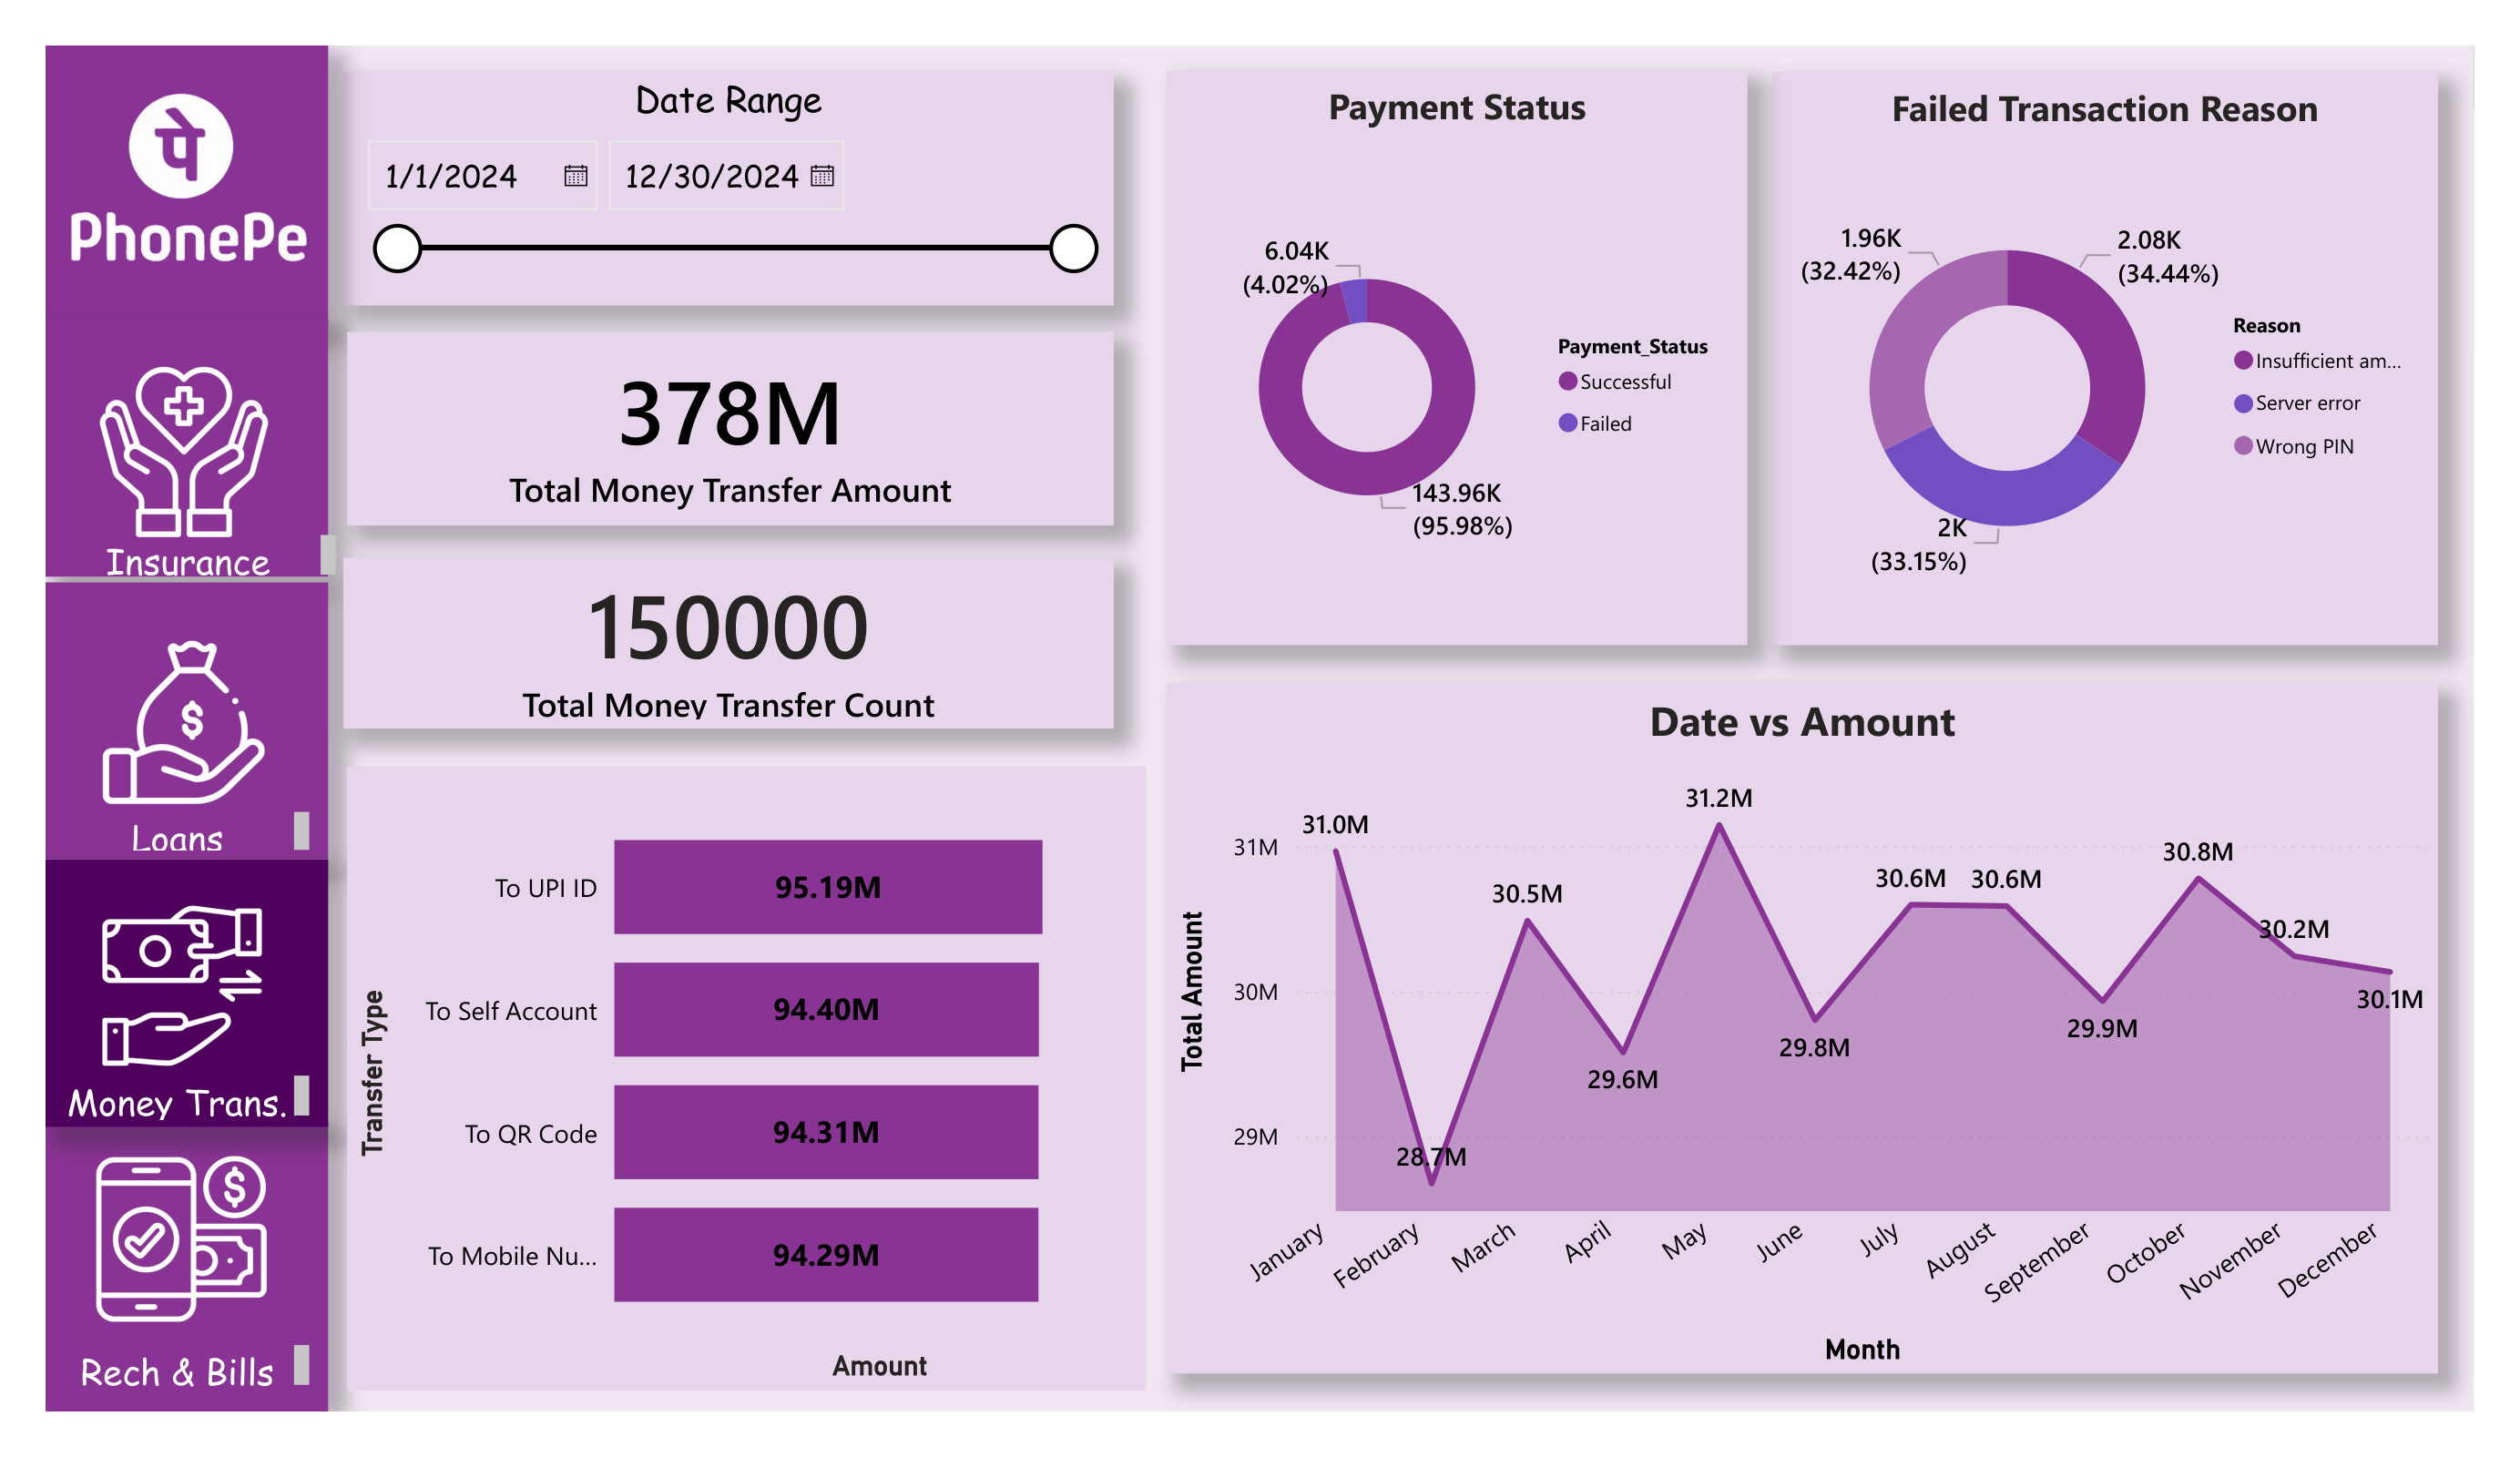

This screenshot's page, from the dashboard's own definition file:
{"tool":"powerbi","page":{"name":"Money Transfers","canvas":[1280,720],"ordinal":3},"visuals":[{"type":"shape","box":[-0.3,0.5,148.6,147.1],"z":0,"group":"g1"},{"type":"slicer","title":"Date Range","fields":{"Values":["Money_Transfer.Date"]},"box":[157.1,14.3,405.7,122.9],"z":0},{"type":"donutChart","title":"Failed Transaction Reason","fields":{"Category":["Money_Transfer.Reason"],"Y":["CountNonNull(Money_Transfer.Reason)"]},"box":[910,14.3,351.4,301.4],"z":1000},{"type":"shape","box":[0,145,148.8,135],"z":1000,"group":"g2"},{"type":"shape","box":[0,282.5,148.8,146.1],"z":2000,"group":"g3"},{"type":"areaChart","title":"Date vs Amount","fields":{"Category":["Money_Transfer.Date.Variation.Date Hierarchy.Month"],"Y":["Sum(Money_Transfer.Amount)"]},"box":[591.4,335.7,670,364.3],"z":2000},{"type":"group","id":"g1","title":"Group 1","box":[-0.3,-1,149.4,148.6],"z":3000},{"type":"shape","box":[0,428.8,148.6,141.4],"z":3000,"group":"g5"},{"type":"group","id":"g2","title":"Group 2","box":[0,145,157.5,141.2],"z":4000},{"type":"shape","box":[0,567.5,148.6,152.9],"z":4000,"group":"g4"},{"type":"image","box":[7.2,7.6,134.3,130],"z":5000,"group":"g1"},{"type":"group","id":"g3","title":"Group 3","box":[0,282.5,148.8,146.2],"z":5000},{"type":"image","box":[15,307.1,118.9,95.9],"z":6000,"group":"g3"},{"type":"group","id":"g4","title":"Group 5","box":[0,567.5,148.8,152.5],"z":6000},{"type":"actionButton","box":[0,145,148.8,135],"z":7000},{"type":"image","box":[23.8,441.7,96.2,107.5],"z":7000,"group":"g5"},{"type":"actionButton","box":[0,282.5,148.8,145],"z":8000},{"type":"image","box":[13.8,577.9,115,101.2],"z":8000,"group":"g4"},{"type":"image","box":[18.6,158.9,108.6,110],"z":9000,"group":"g2"},{"type":"actionButton","box":[0,567.5,148.8,152.5],"z":9000},{"type":"textbox","box":[0,252.5,157.5,33.8],"z":10000,"group":"g2"},{"type":"group","id":"g5","title":"Group 4","box":[0,428.8,148.8,141.2],"z":10000},{"type":"card","title":"Total Transaction Amount","fields":{"Values":["Sum(Money_Transfer.Amount)"]},"box":[158.6,151.4,404.3,101.4],"z":11000},{"type":"textbox","box":[2.5,398,141.4,30.7],"z":11000,"group":"g3"},{"type":"card","title":"Total Transaction Amount","fields":{"Values":["CountNonNull(Money_Transfer.Transaction_ID)"]},"box":[157.1,270,405.7,90],"z":12000},{"type":"textbox","box":[2.5,537.9,141.2,32.5],"z":12000,"group":"g5"},{"type":"actionButton","box":[0.6,-1,148.6,147.1],"z":12001,"group":"g1"},{"type":"donutChart","title":"Payment Status","fields":{"Y":["CountNonNull(Money_Transfer.Payment_Status)"],"Category":["Money_Transfer.Payment_Status"]},"box":[591.4,12.9,305.7,302.9],"z":13000},{"type":"textbox","box":[2.5,679.1,141.2,32.5],"z":13000,"group":"g4"},{"type":"clusteredBarChart","fields":{"Category":["Money_Transfer.Transfer_Type"],"Y":["Sum(Money_Transfer.Amount)"]},"box":[158.6,380,421.4,328.6],"z":14000}]}

Visuals, with their boxes on the page's 1280x720 design canvas (x1, y1, x2, y2). These are canvas units, not pixel positions in the 2520x1457 screenshot, which may show the page scaled, cropped or inside an application window:
shape: <bbox>0, 0, 148, 148</bbox>
"Date Range" slicer: <bbox>157, 14, 563, 137</bbox>
"Failed Transaction Reason" donutChart: <bbox>910, 14, 1261, 316</bbox>
shape: <bbox>0, 145, 149, 280</bbox>
shape: <bbox>0, 282, 149, 429</bbox>
"Date vs Amount" areaChart: <bbox>591, 336, 1261, 700</bbox>
"Group 1" group: <bbox>0, -1, 149, 148</bbox>
shape: <bbox>0, 429, 149, 570</bbox>
"Group 2" group: <bbox>0, 145, 158, 286</bbox>
shape: <bbox>0, 568, 149, 720</bbox>
image: <bbox>7, 8, 142, 138</bbox>
"Group 3" group: <bbox>0, 282, 149, 429</bbox>
image: <bbox>15, 307, 134, 403</bbox>
"Group 5" group: <bbox>0, 568, 149, 720</bbox>
actionButton: <bbox>0, 145, 149, 280</bbox>
image: <bbox>24, 442, 120, 549</bbox>
actionButton: <bbox>0, 282, 149, 428</bbox>
image: <bbox>14, 578, 129, 679</bbox>
image: <bbox>19, 159, 127, 269</bbox>
actionButton: <bbox>0, 568, 149, 720</bbox>
textbox: <bbox>0, 252, 158, 286</bbox>
"Group 4" group: <bbox>0, 429, 149, 570</bbox>
"Total Transaction Amount" card: <bbox>159, 151, 563, 253</bbox>
textbox: <bbox>2, 398, 144, 429</bbox>
"Total Transaction Amount" card: <bbox>157, 270, 563, 360</bbox>
textbox: <bbox>2, 538, 144, 570</bbox>
actionButton: <bbox>1, -1, 149, 146</bbox>
"Payment Status" donutChart: <bbox>591, 13, 897, 316</bbox>
textbox: <bbox>2, 679, 144, 712</bbox>
clusteredBarChart - Money_Transfer.Transfer_Type x Sum(Money_Transfer.Amount): <bbox>159, 380, 580, 709</bbox>
